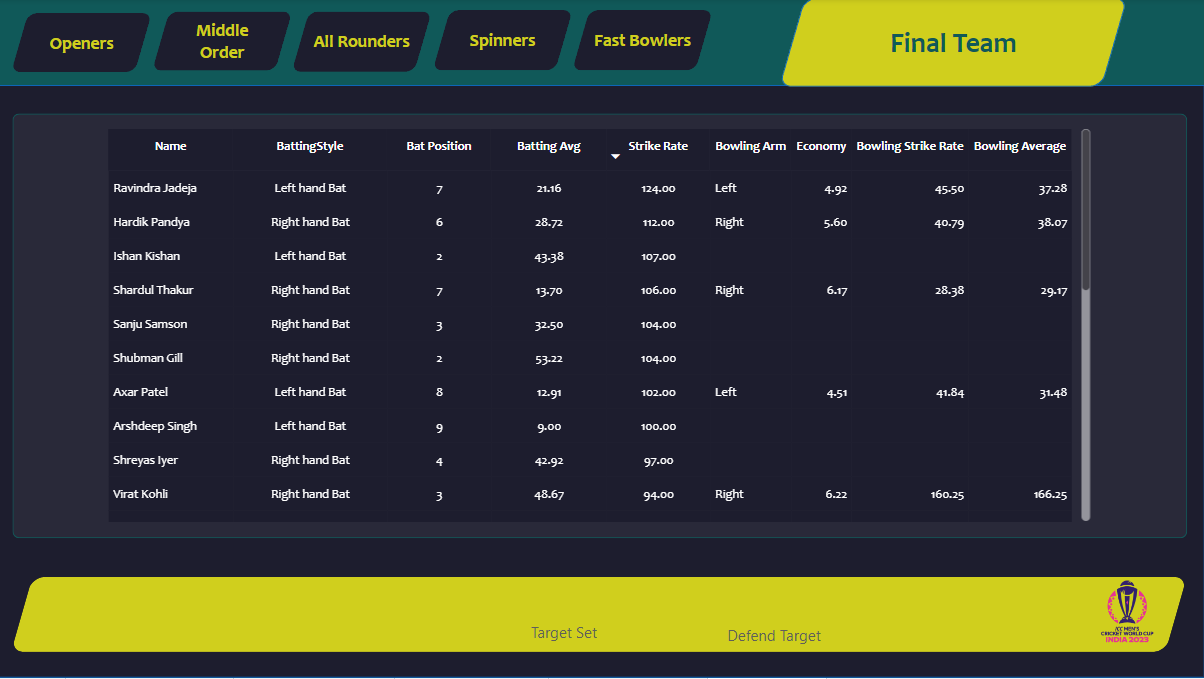

The dashboard page shown, as its layout file describes it:
{"tool":"powerbi","page":{"name":"Final 11","canvas":[1280,720],"ordinal":5},"visuals":[{"type":"shape","box":[0,91.9,1280.6,627.9],"z":0},{"type":"shape","box":[0,91.9,1280.6,627.9],"z":1000},{"type":"shape","box":[829.7,0,369,94.1],"z":2000},{"type":"shape","box":[17.8,122,1244.9,449.7],"z":3000},{"type":"tableEx","fields":{"Values":["dim_player.name","dim_player.battingStyle","Key_Measures.Bat Position","Key_Measures.Batting Avg","Key_Measures.Strike Rate","dim_player_bowler.Bowling Arm","Key_Measures.Economy","Key_Measures.Bowling Strike Rate","Key_Measures.Bowling Average"]},"box":[113.4,133.9,1051.7,425.7],"z":4000},{"type":"shape","box":[16.5,612.9,1246.3,79.5],"z":5000},{"type":"image","box":[1160.2,612.7,77.2,76],"z":6000},{"type":"shape","box":[89.2,635.6,224.3,37.4],"z":7000},{"type":"actionButton","box":[165.2,14.5,148.3,62.7],"z":8000},{"type":"actionButton","box":[313.6,14.5,148.3,63.9],"z":9000},{"type":"actionButton","box":[461.9,13.3,148.3,63.9],"z":10000},{"type":"actionButton","box":[610.3,13.3,149.5,63.9],"z":11000},{"type":"actionButton","box":[15.7,15.7,149.5,62.7],"z":12000},{"type":"card","fields":{"Values":["Key_Measures.Target Set"]},"box":[536.7,612.7,129,78.4],"z":13000},{"type":"card","fields":{"Values":["Key_Measures.Defend Target"]},"box":[759.6,615.6,128.9,78.1],"z":13001}]}

Visuals, with their boxes in screenshot pixels (x1, y1, x2, y2), scaled from the page's 1280x720 canvas onto the 1204x679 screenshot:
shape: (x1=0, y1=87, x2=1203, y2=678)
shape: (x1=0, y1=87, x2=1203, y2=678)
shape: (x1=780, y1=0, x2=1128, y2=89)
shape: (x1=17, y1=115, x2=1188, y2=539)
tableEx - dim_player.name x dim_player.battingStyle: (x1=107, y1=126, x2=1096, y2=528)
shape: (x1=16, y1=578, x2=1188, y2=653)
image: (x1=1091, y1=578, x2=1164, y2=649)
shape: (x1=84, y1=599, x2=295, y2=635)
actionButton: (x1=155, y1=14, x2=295, y2=73)
actionButton: (x1=295, y1=14, x2=434, y2=74)
actionButton: (x1=434, y1=13, x2=574, y2=73)
actionButton: (x1=574, y1=13, x2=715, y2=73)
actionButton: (x1=15, y1=15, x2=155, y2=74)
card - Key_Measures.Target Set: (x1=505, y1=578, x2=626, y2=652)
card - Key_Measures.Defend Target: (x1=714, y1=581, x2=836, y2=654)
